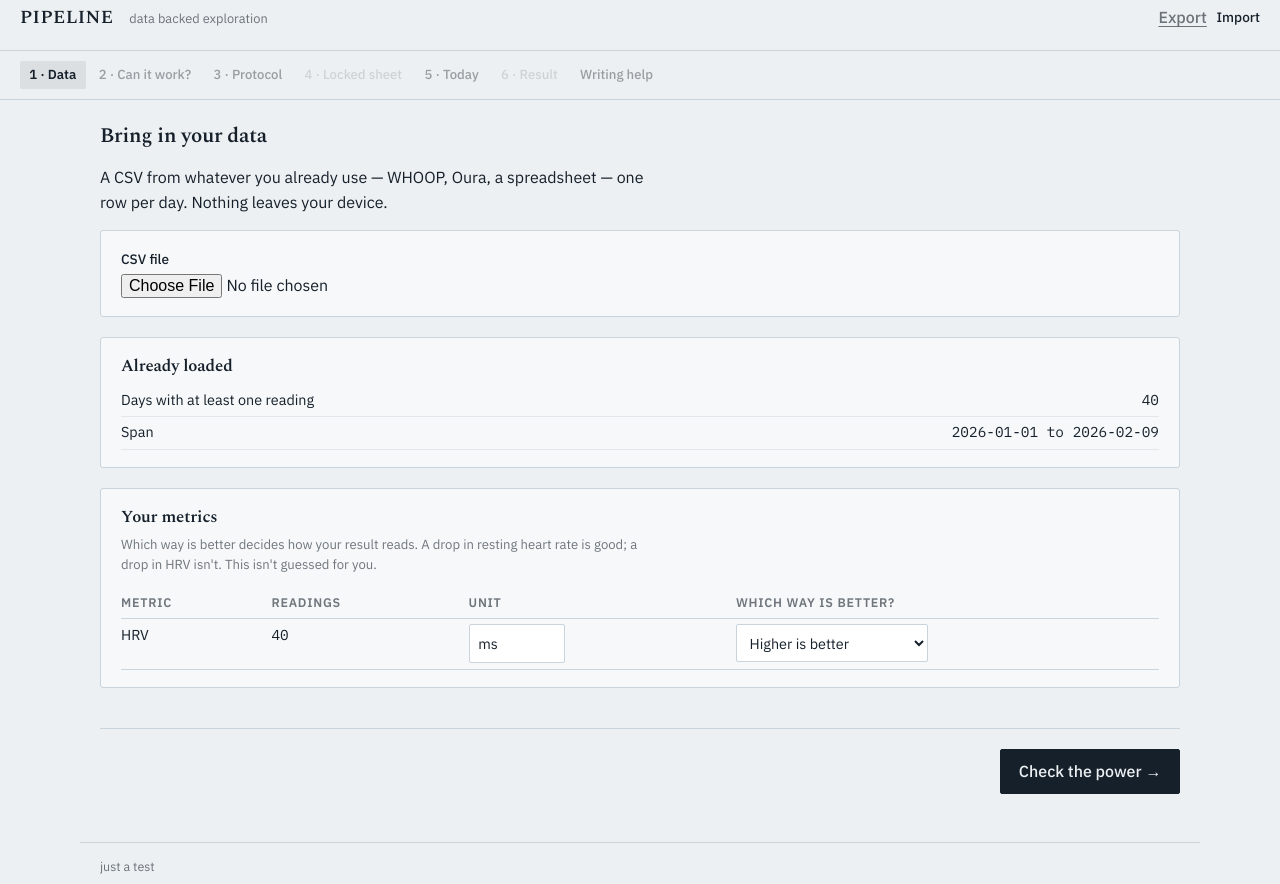
Test: the app renders › reaches the power verdict once data exists
The image size is (1280, 884).
Click the button "2 · Can it work?" at (145, 75), box [90,61,200,89]
(page scrolled)
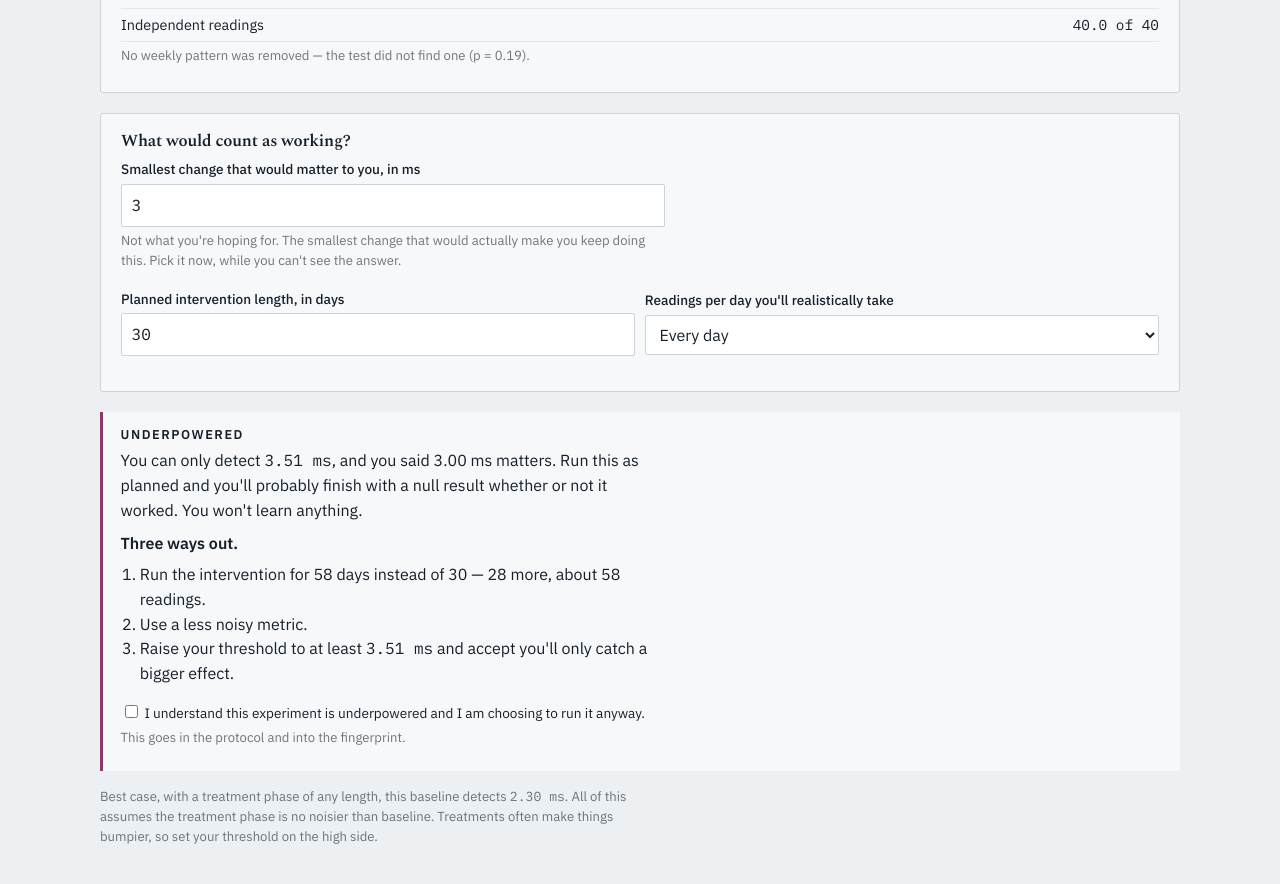
expect the heading "Underpowered" is shown: met, box [121,426,244,443]
